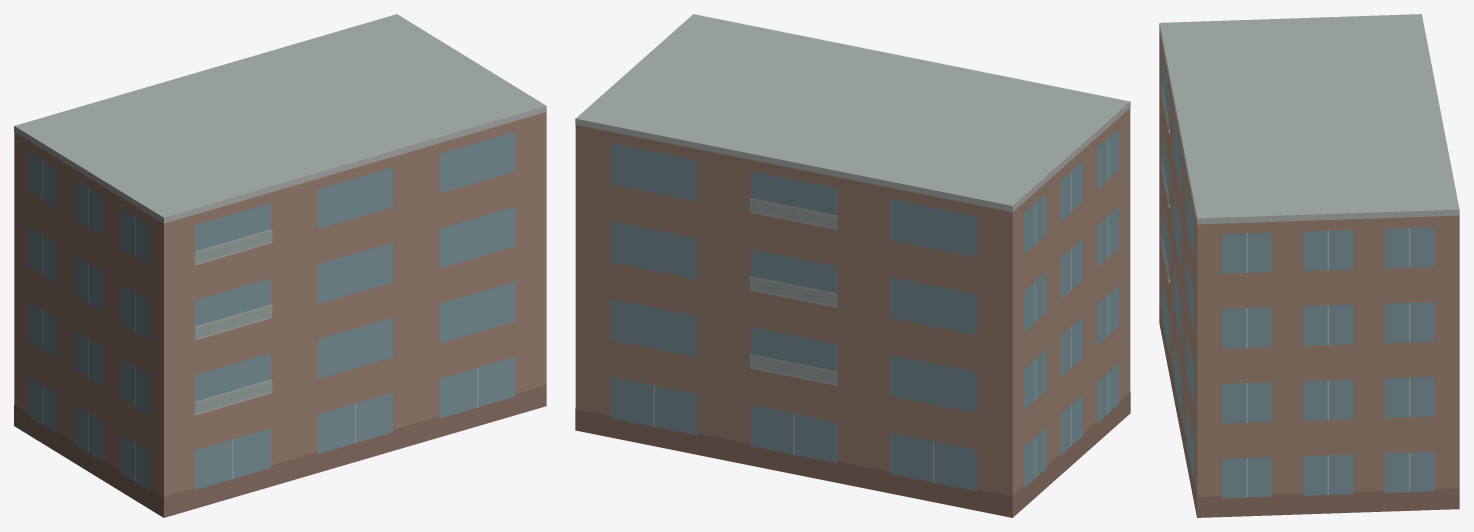
Rendered from survey-upis-32960475.glb.
The picture shows the model from 3 angles, left to right: view 1: azimuth 30°, elevation 25°; view 2: azimuth 150°, elevation 25°; view 3: azimuth 270°, elevation 25°; orthographic projection. The views are drawn at different scales.
Parts seen in each view (by area): view 1: survey-upis-32960475.tmp; view 2: survey-upis-32960475.tmp; view 3: survey-upis-32960475.tmp.
Boxes of the visible parts, box(x1,y1,x2,y2) form: survey-upis-32960475.tmp: box(14, 14, 546, 517); survey-upis-32960475.tmp: box(575, 14, 1130, 517); survey-upis-32960475.tmp: box(1159, 14, 1459, 517).
Bounding box in the file's own units: 17.87 × 12.2 × 11.1.
